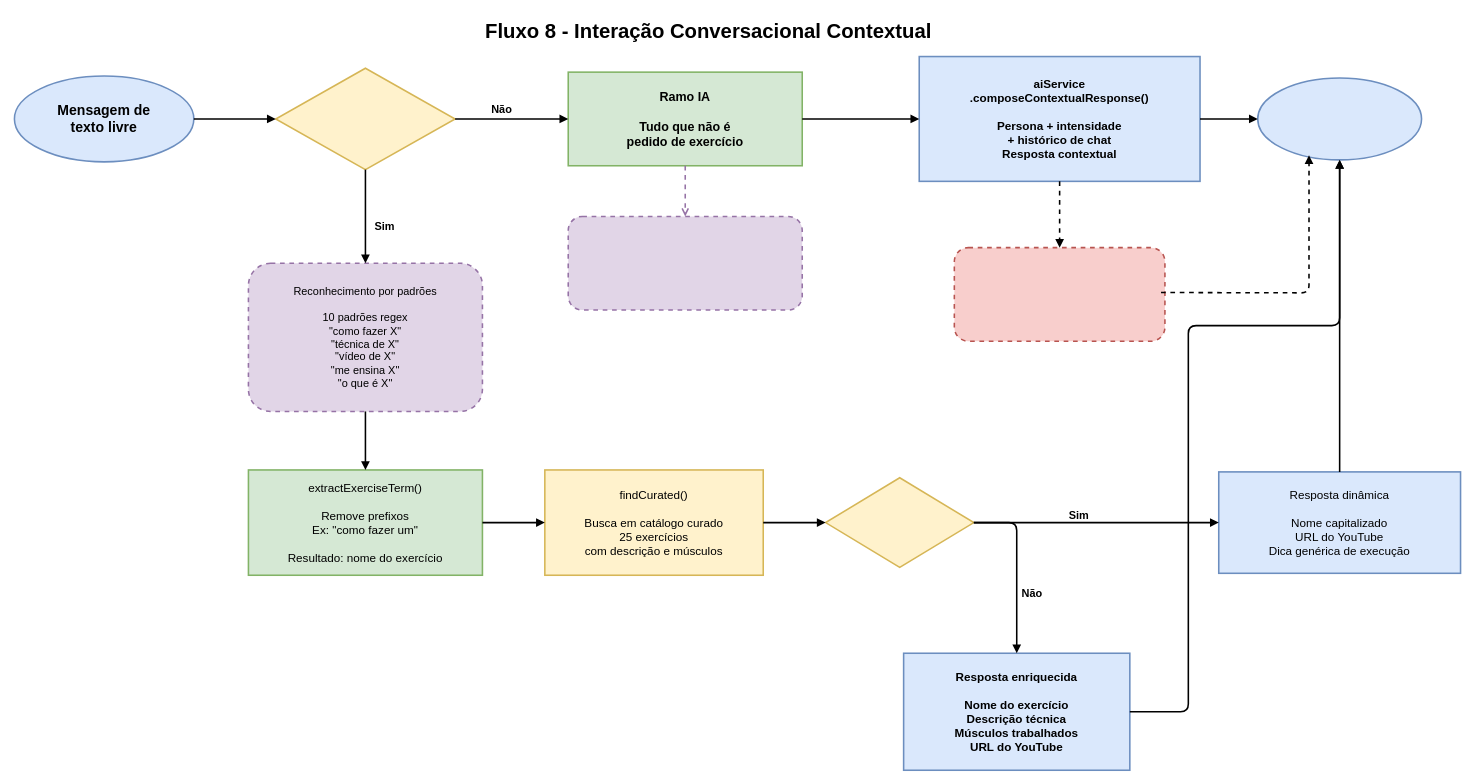
Image size: 1474x784. Some labels were removed from this diagram. Here are the shapes that lost their labels. From the top down, the box of each, then its label:
(275, 67, 456, 170): Intenção de exercício ou vídeo?
(1257, 77, 1422, 160): Resposta ao usuário
(1012, 208, 1067, 228): falha
(567, 215, 803, 310): buildChatHistory() Últimas 10 mensagens do MessageRepository
(953, 246, 1165, 342): Fallback Não consegui processar. Tenta /menu
(824, 477, 974, 568): Está no catálogo?
